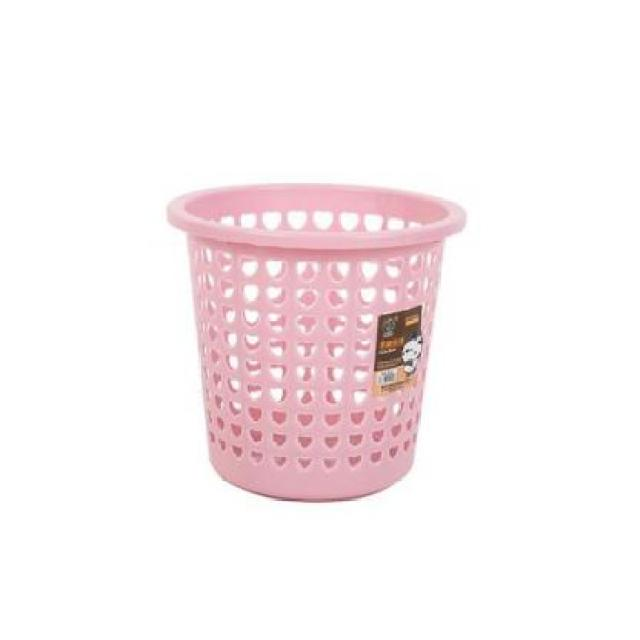dustbin: (162, 175, 472, 507)
